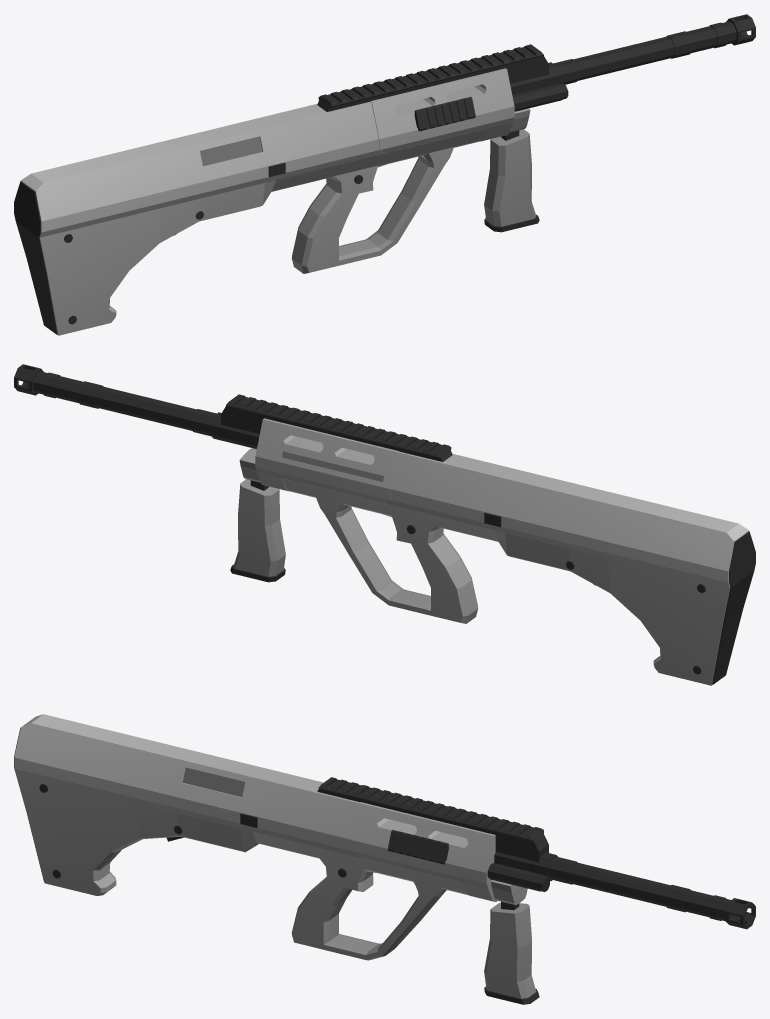
The model's file is AssaultRifle2_04.fbx.
3 renders of one model, top to bottom at view 1: azimuth 30°, elevation 25°; view 2: azimuth 150°, elevation 25°; view 3: azimuth 330°, elevation 25°, orthographic.
Parts seen in each view (by area): view 1: AssaultRifle2_04; view 2: AssaultRifle2_04; view 3: AssaultRifle2_04.
Boxes of the visible parts, x1,y1,x2,y2 form: AssaultRifle2_04: (14,14,755,335); AssaultRifle2_04: (14,364,755,685); AssaultRifle2_04: (14,714,755,1004).
Size of the model in its own units: 0.9551 by 0.2132 by 0.0697.
